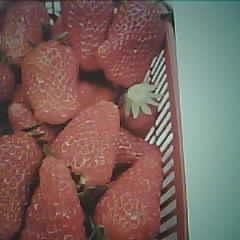straw-ripe: (95, 156, 165, 239), (20, 158, 90, 240), (49, 103, 119, 183), (22, 42, 81, 122)
